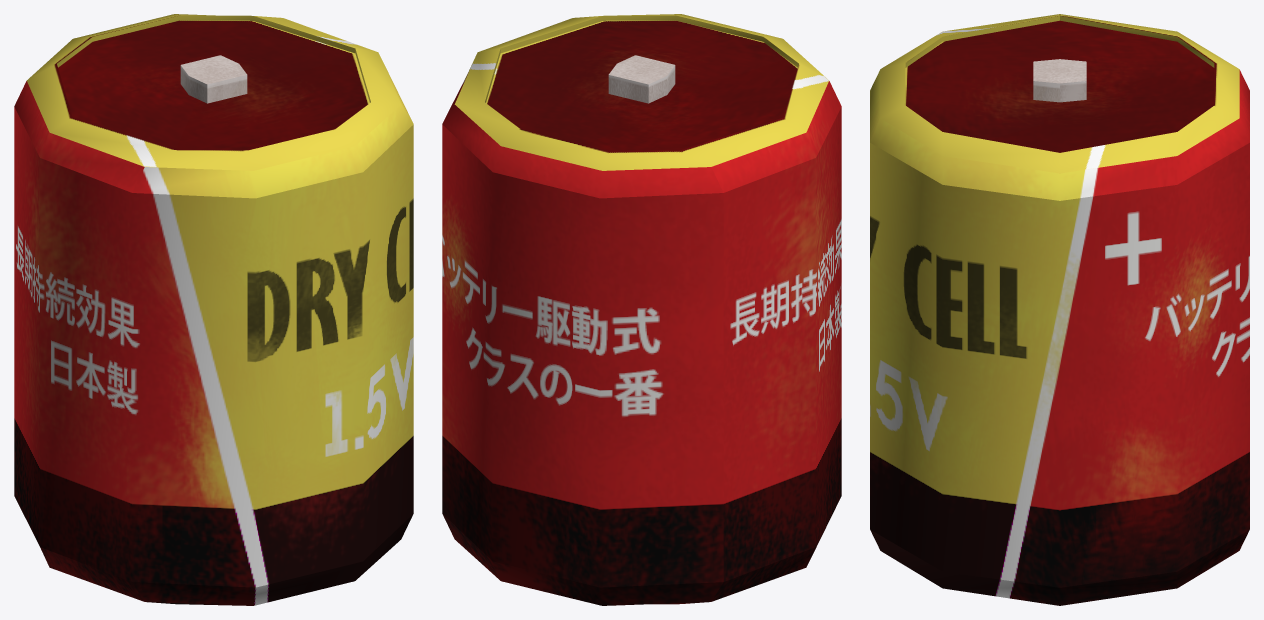
Rendered from battery.glb.
3 renders of one model, left to right at view 1: azimuth 30°, elevation 25°; view 2: azimuth 150°, elevation 25°; view 3: azimuth 270°, elevation 25°, orthographic.
Parts seen in each view (by area): view 1: battery; view 2: battery; view 3: battery.
Boxes of the visible parts, <box> form: battery: <box>14,14,413,605</box>; battery: <box>442,14,841,605</box>; battery: <box>870,14,1249,605</box>.
Size of the model in its own units: 0.8024 by 1.03 by 0.7631.
Materials: 1 (1 with a texture image).
